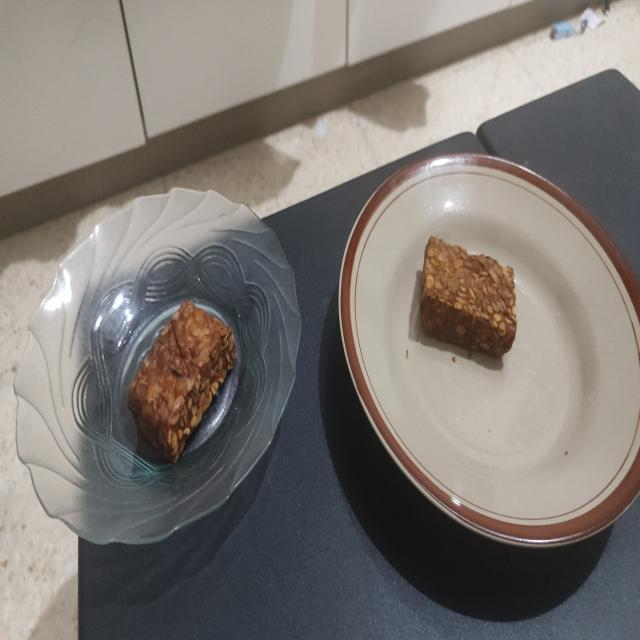tempe_goreng: (128, 302, 236, 461), (419, 236, 516, 358)
